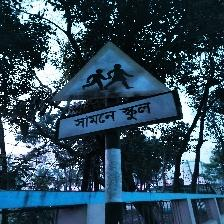School-in-front: (50, 40, 181, 140)
